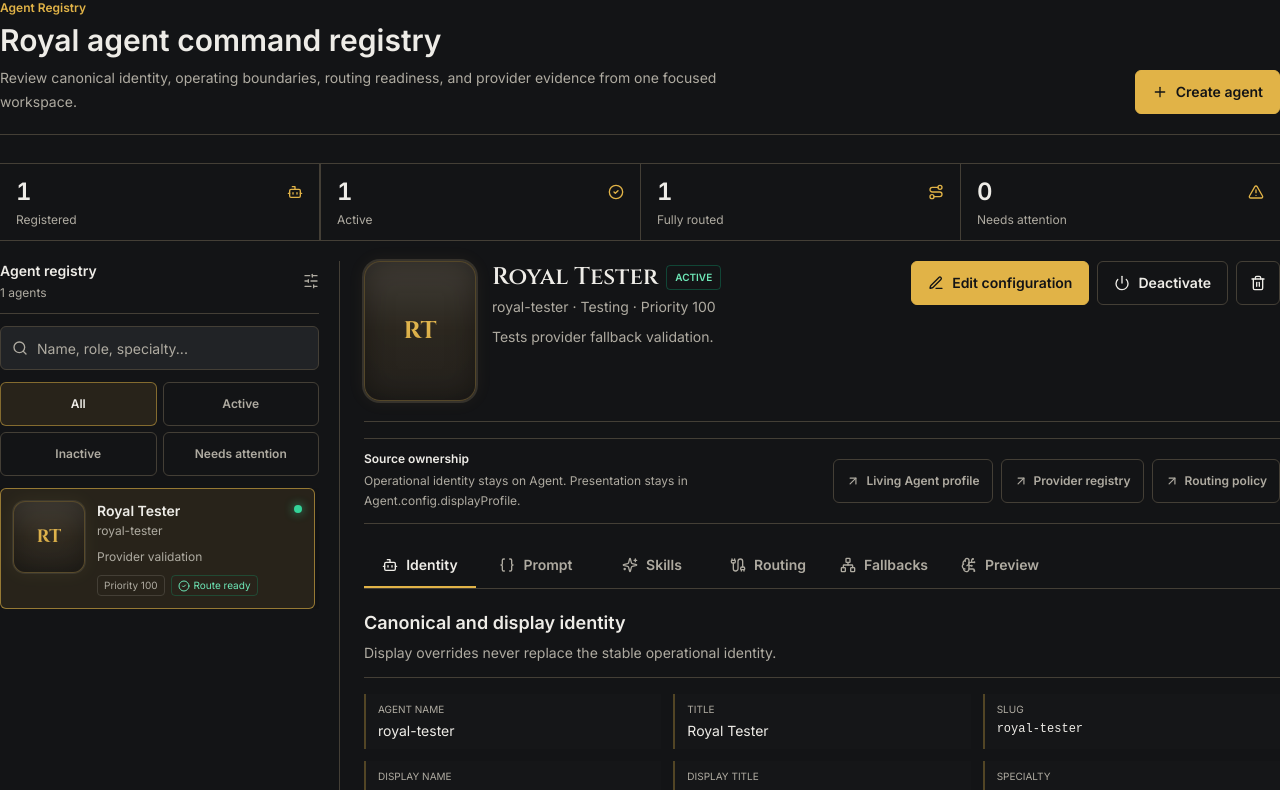
Test: AgentsPage fallback model validation › auto-checks fallback models on load
Click the button "Edit configuration".
click(1000, 283)  # box [911,261,1090,305]
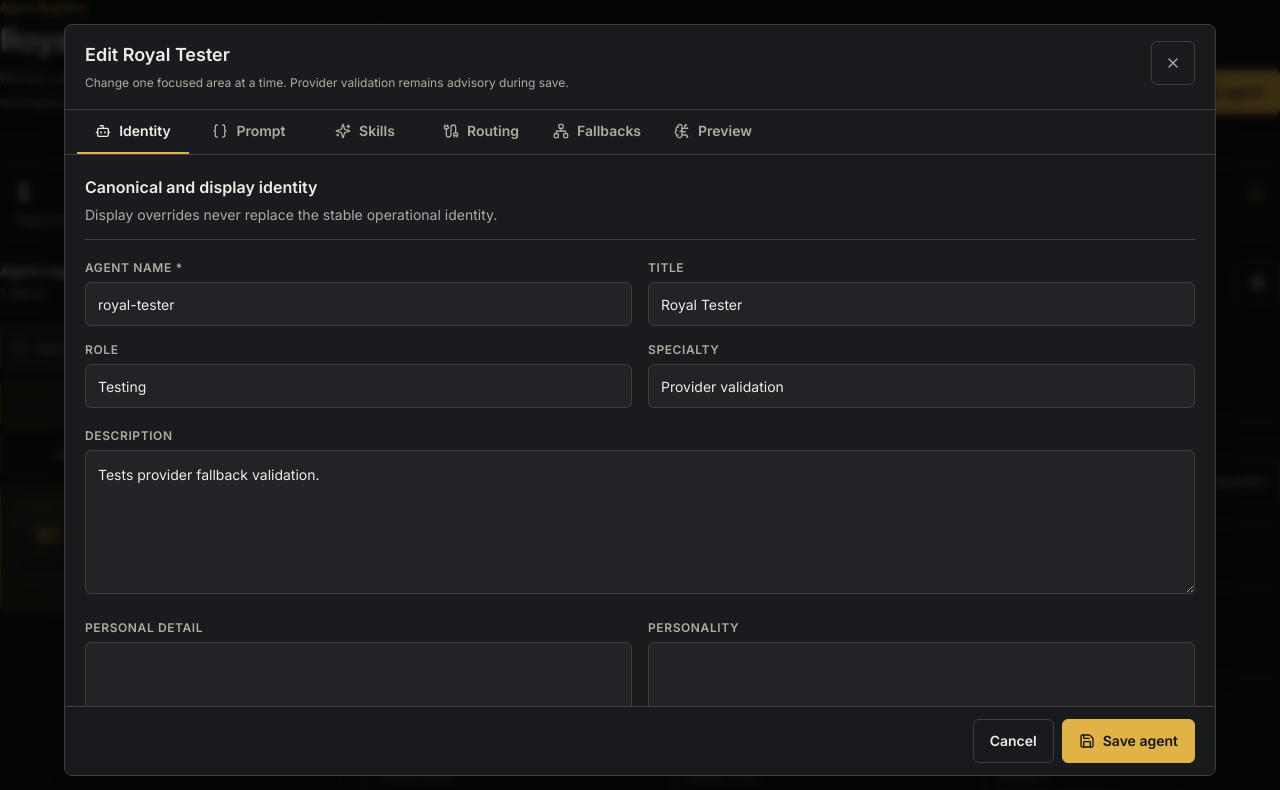
Click the button "Fallbacks".
click(597, 132)  # box [541,110,653,154]
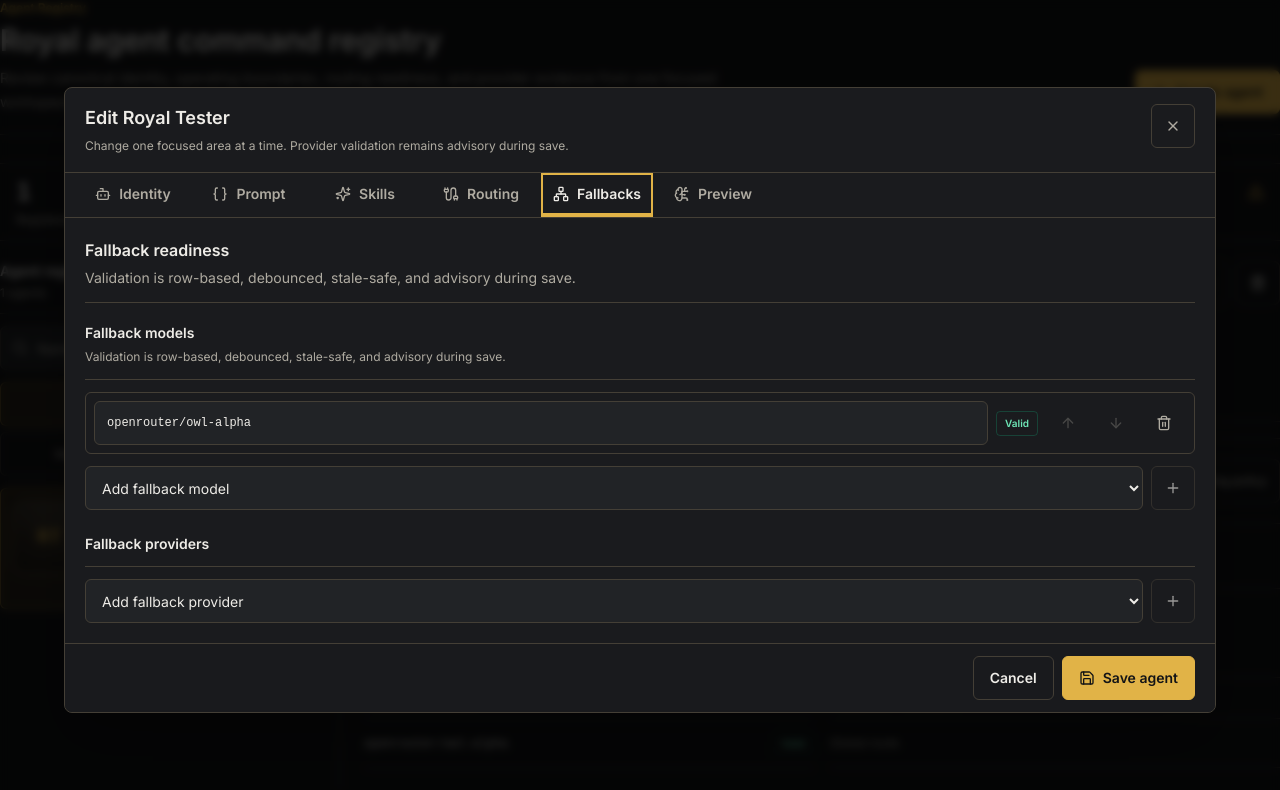
Expected: the text "Valid" is shown, [996,410,1038,436]
